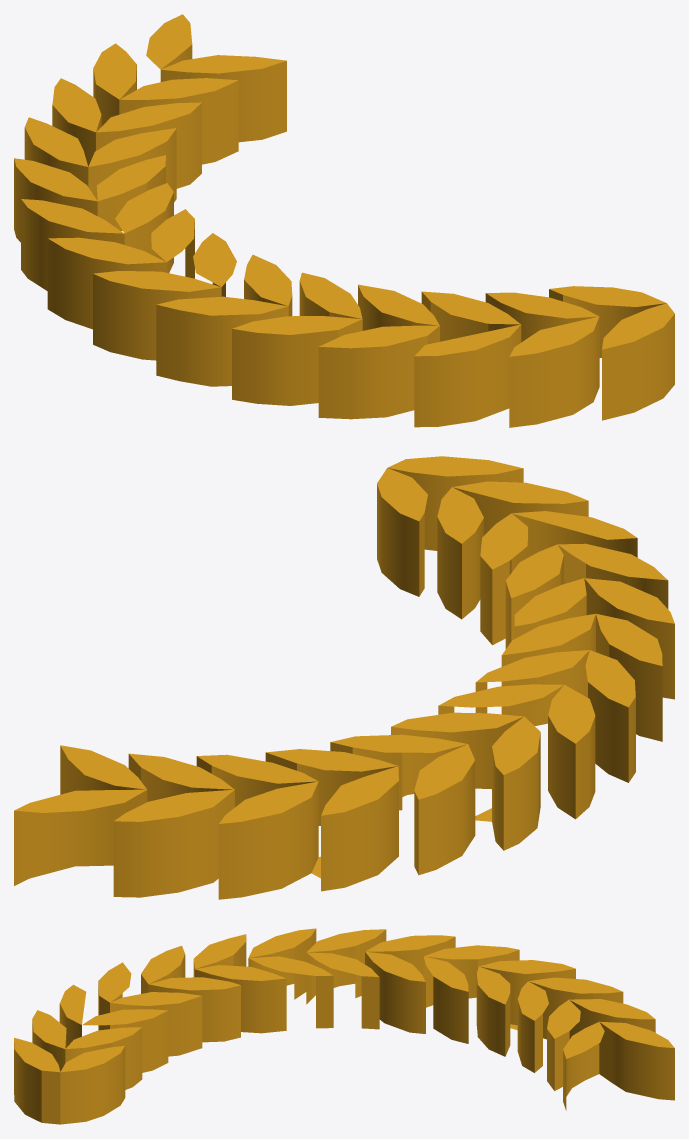
File: myGolden.fbx
3 renders of one model, top to bottom at view 1: azimuth 30°, elevation 25°; view 2: azimuth 150°, elevation 25°; view 3: azimuth 270°, elevation 25°, orthographic. The views are drawn at different scales.
Parts seen in each view (by area): view 1: coin2; view 2: coin2; view 3: coin2.
Boxes of the visible parts, x1=… form: coin2: x1=14, y1=14, x2=674, y2=427; coin2: x1=14, y1=456, x2=674, y2=899; coin2: x1=14, y1=928, x2=674, y2=1124.
Size of the model in its own units: 238 by 40.38 by 463.
